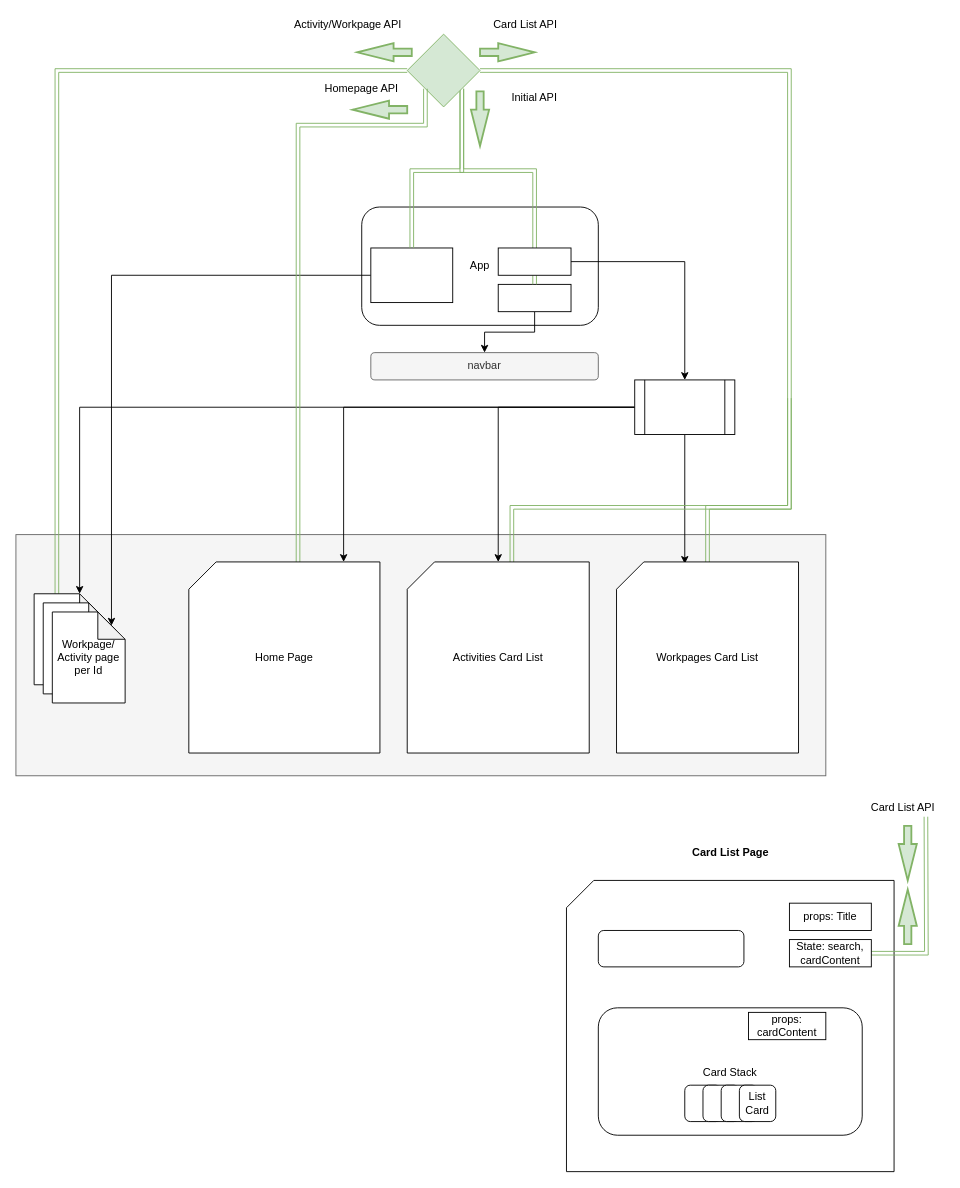
This 960x1188 diagram has some shape labels left out. The centre of each missing label's shape, as x and y in pixels:
"Activity Ids Workpages Ids" goes at [411,275].
"DB" goes at [443,70].
"Handle Like Context" goes at [684,407].
"Header" goes at [670,948].
"User Info" goes at [534,297].
"User Likes" goes at [534,261].
